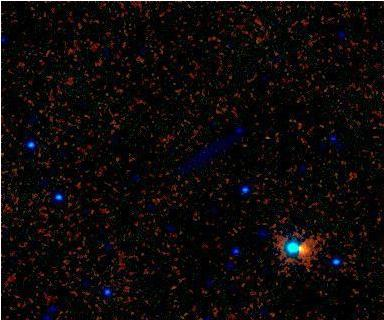star: (287, 234, 317, 264)
